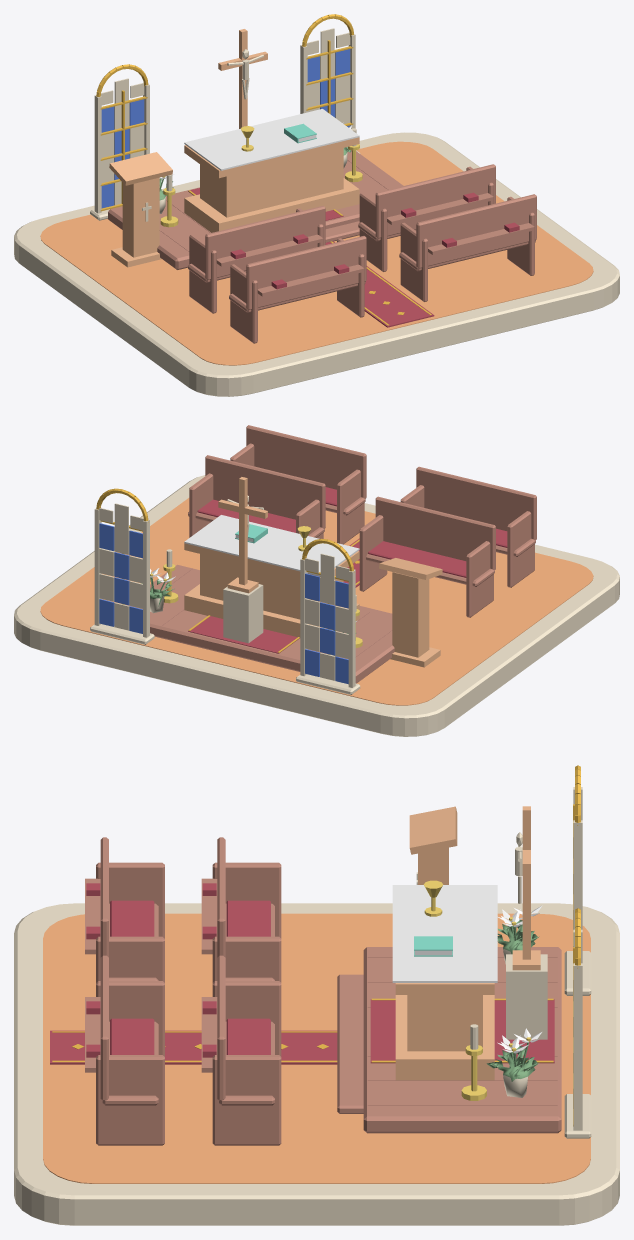
The picture shows the model from 3 angles, top to bottom: view 1: azimuth 30°, elevation 25°; view 2: azimuth 150°, elevation 25°; view 3: azimuth 270°, elevation 25°; orthographic projection. The views are drawn at different scales.
Parts seen in each view (by area): view 1: COM-02 Floor Surface, COM-01 Rounded Base Direct, Altar, Altar cloth, Back.002, Back.003, Sanctuary platform, Back, Back.001, Base, Body, Aisle runner (+17 smaller); view 2: COM-01 Rounded Base Direct, COM-02 Floor Surface, Sanctuary platform, Back, Back.002, Back.003, Back.001, Altar cloth, Altar, Body, Display plinth, Base (+23 smaller); view 3: COM-02 Floor Surface, COM-01 Rounded Base Direct, Sanctuary platform, Altar cloth, End panel.002, End panel.006, Aisle runner, Base, Altar, Entry step, Stage carpet, Display plinth (+30 smaller).
Part boxes in pixels (x1,y1,x2,y2): COM-02 Floor Surface: (40,141,593,365); COM-01 Rounded Base Direct: (14,132,619,396); Altar: (200,148,343,217); Altar cloth: (184,109,359,170); Back.002: (246,236,366,310); Back.003: (416,194,536,268); Sanctuary platform: (108,150,403,269); Back: (205,206,325,280); Back.001: (375,164,495,238); Base: (184,178,359,232); Body: (122,177,159,257); Aisle runner: (325,241,434,327); COM-01 Rounded Base Direct: (14,475,619,736); COM-02 Floor Surface: (40,498,593,705); Sanctuary platform: (125,564,394,683); Back: (375,496,495,570); Back.002: (416,466,536,540); Back.003: (246,425,366,498); Back.001: (205,455,325,528); Altar cloth: (184,515,359,576); Altar: (200,554,343,619); Body: (392,572,429,657); Display plinth: (223,584,263,643); Base: (184,584,359,637); COM-02 Floor Surface: (43,913,590,1183); COM-01 Rounded Base Direct: (14,903,619,1225); Sanctuary platform: (363,947,561,1133); Altar cloth: (392,885,497,982); End panel.002: (212,1055,281,1145); End panel.006: (96,1055,164,1145); Aisle runner: (50,1030,337,1064); Base: (395,995,494,1080); Altar: (407,995,482,1051); Entry step: (337,974,363,1113); Stage carpet: (370,999,554,1063); Display plinth: (506,954,547,1039).
Bounding box in the file's own units: 6 × 2.57 × 5.2.
Materials: 1 (1 with a texture image).
